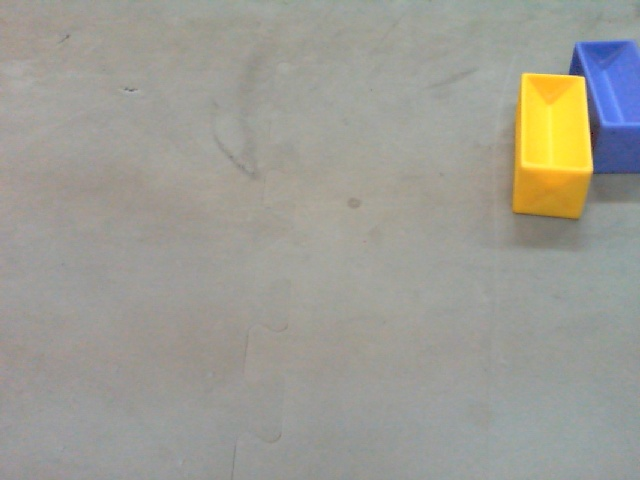BlueSample: (570, 31, 640, 175)
YellowSample: (510, 69, 595, 218)
